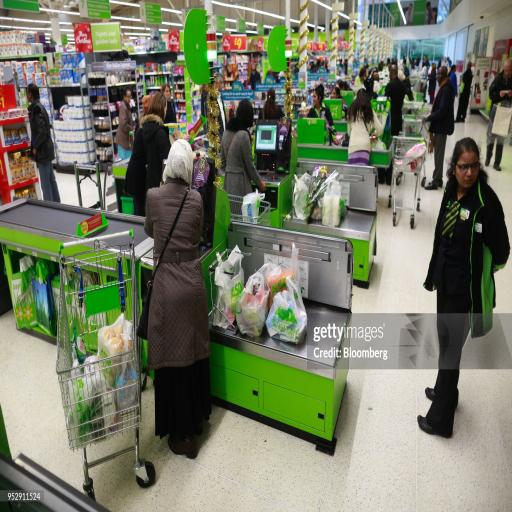shopping_cart: (55, 228, 157, 505), (388, 137, 428, 230), (396, 118, 429, 187), (224, 192, 272, 228)
